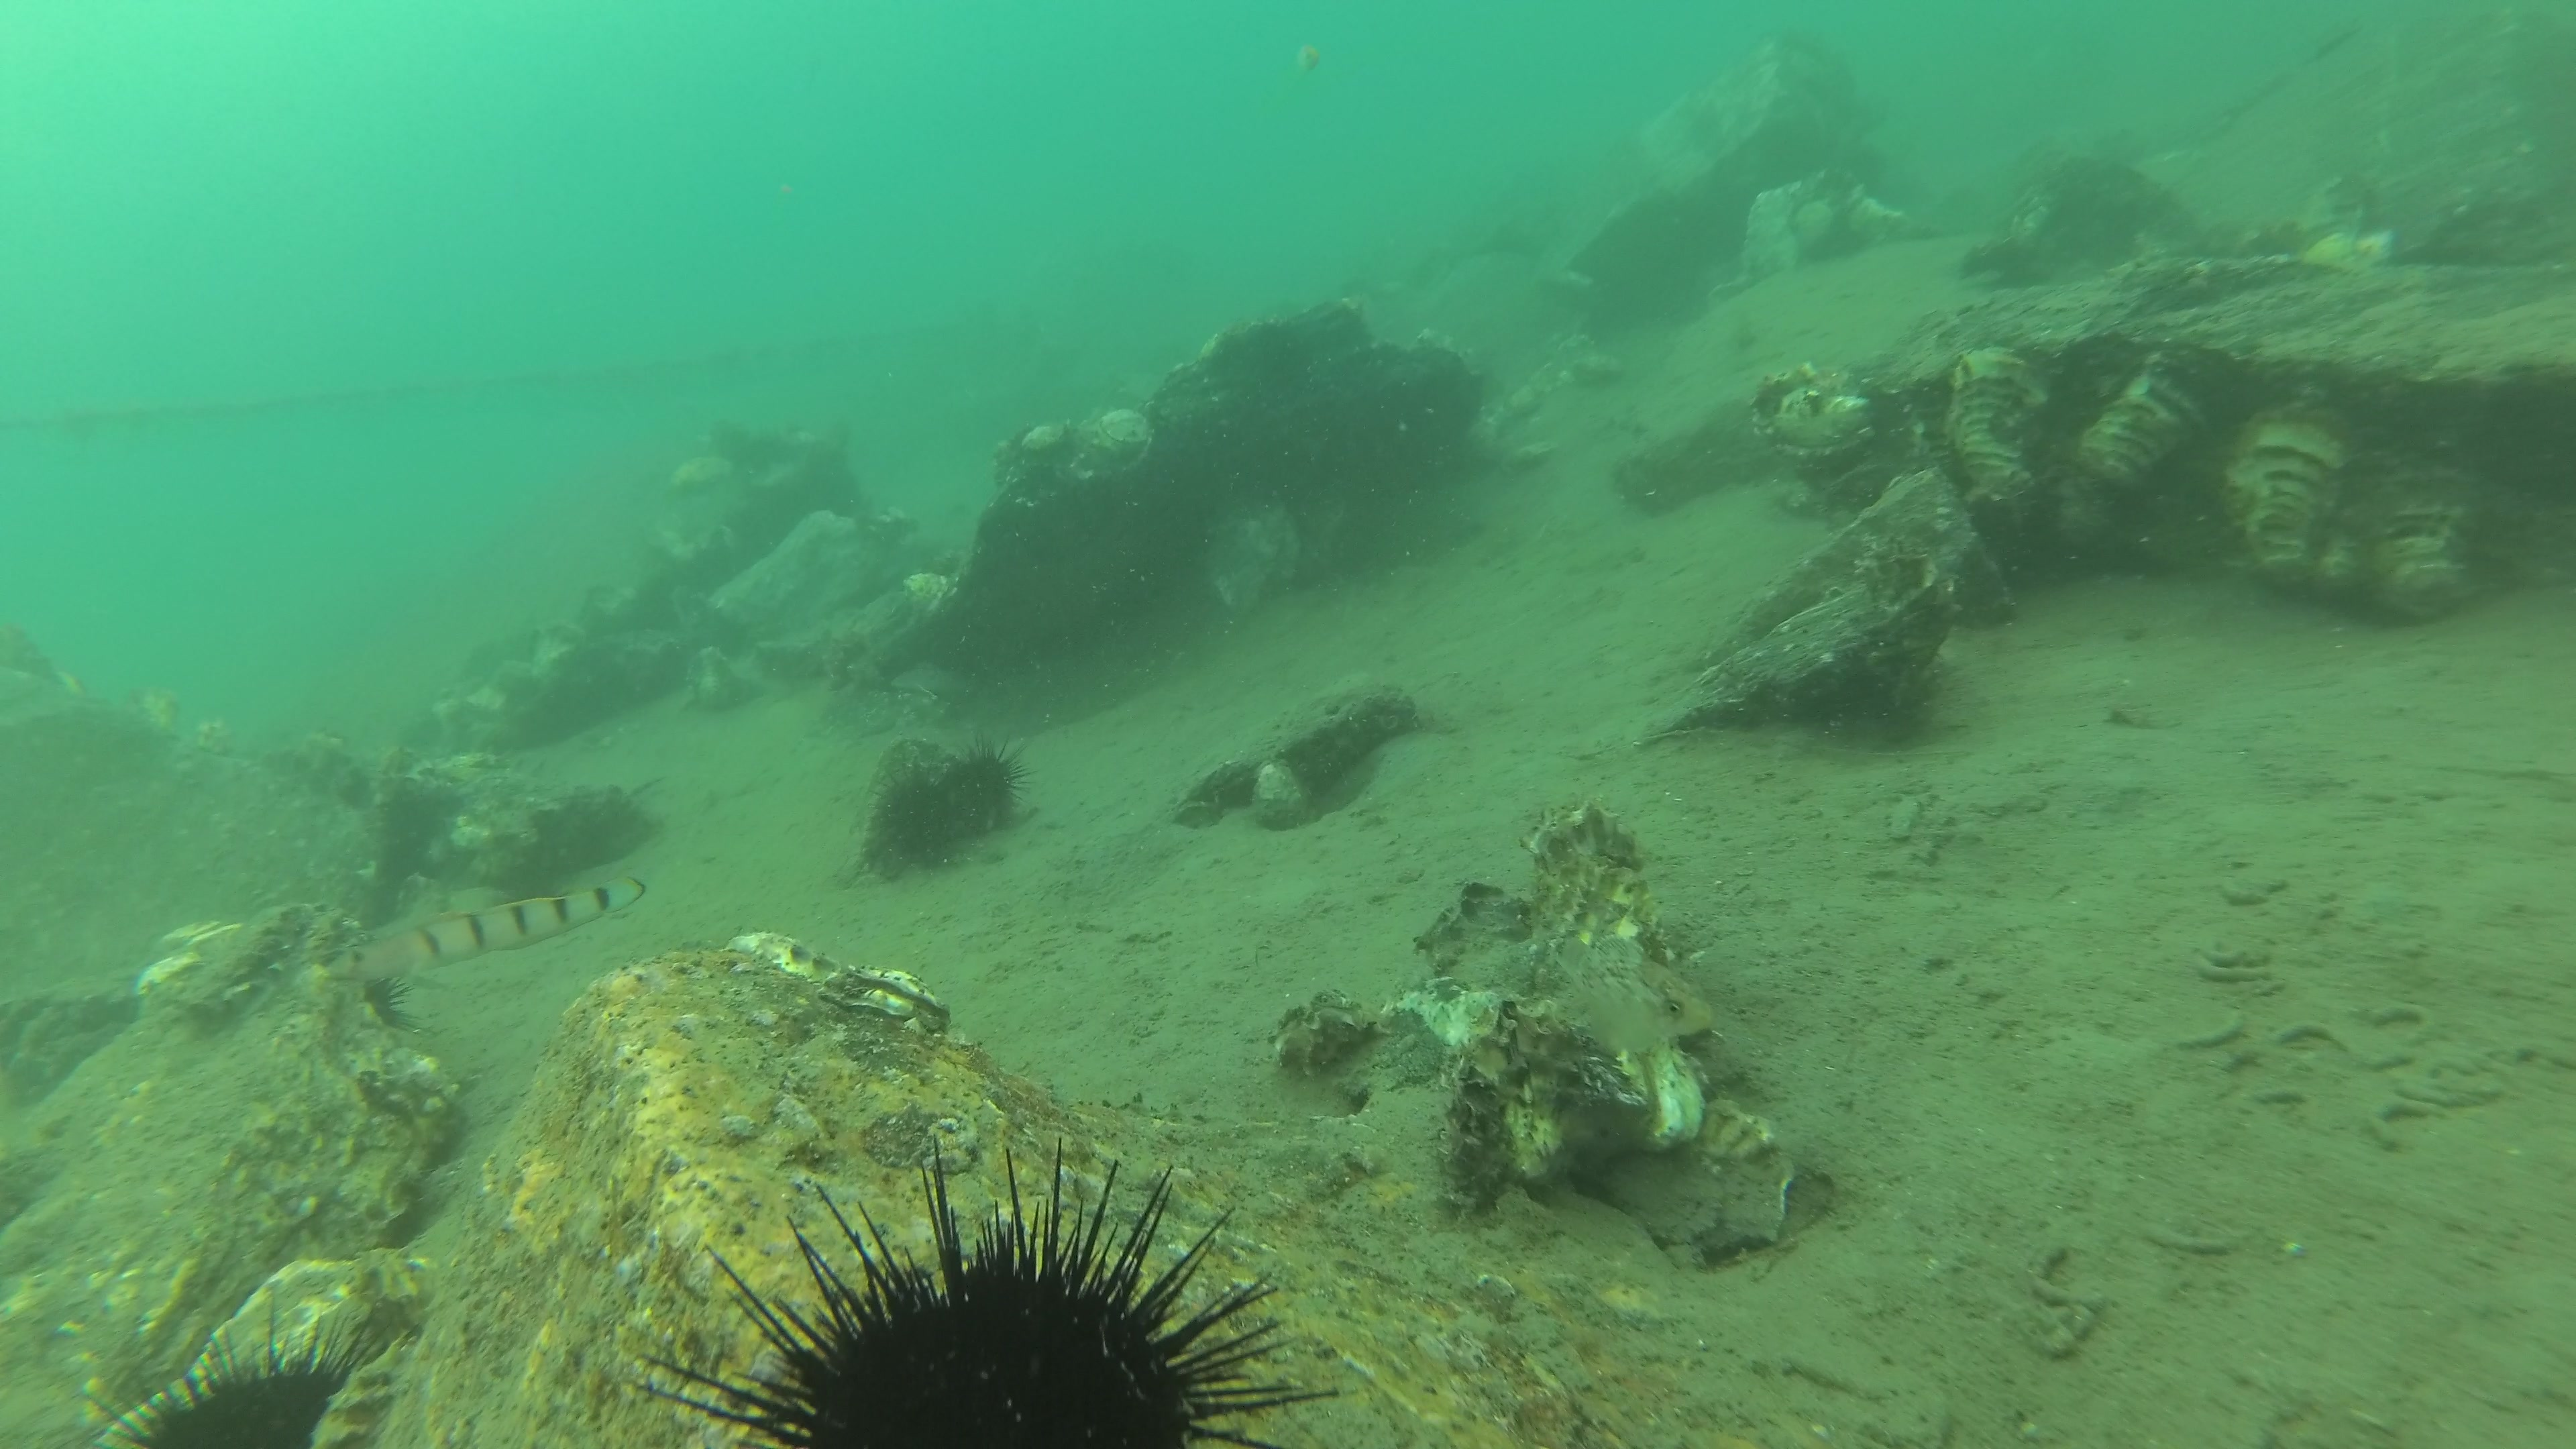echinus: (623, 1125, 1343, 1449), (76, 1297, 391, 1449), (865, 755, 954, 869), (945, 732, 1040, 828), (366, 977, 439, 1037), (1251, 320, 1311, 391)
